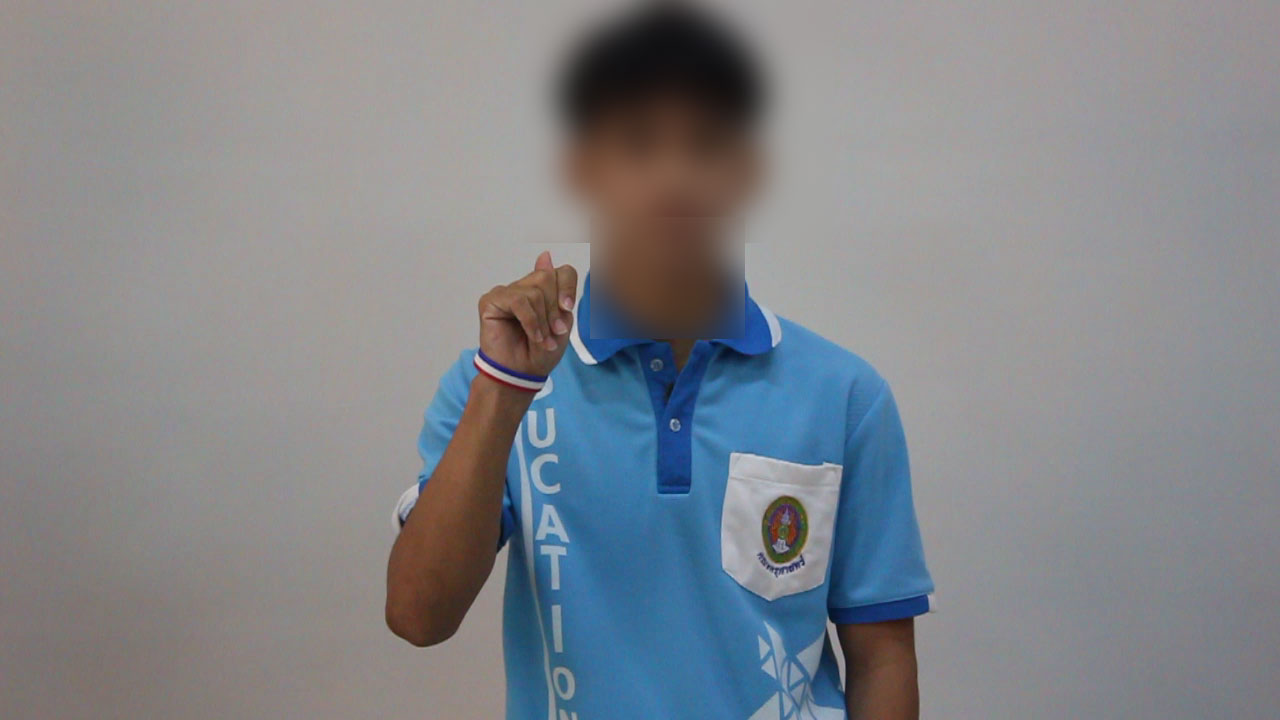tor: (451, 242, 603, 412)
